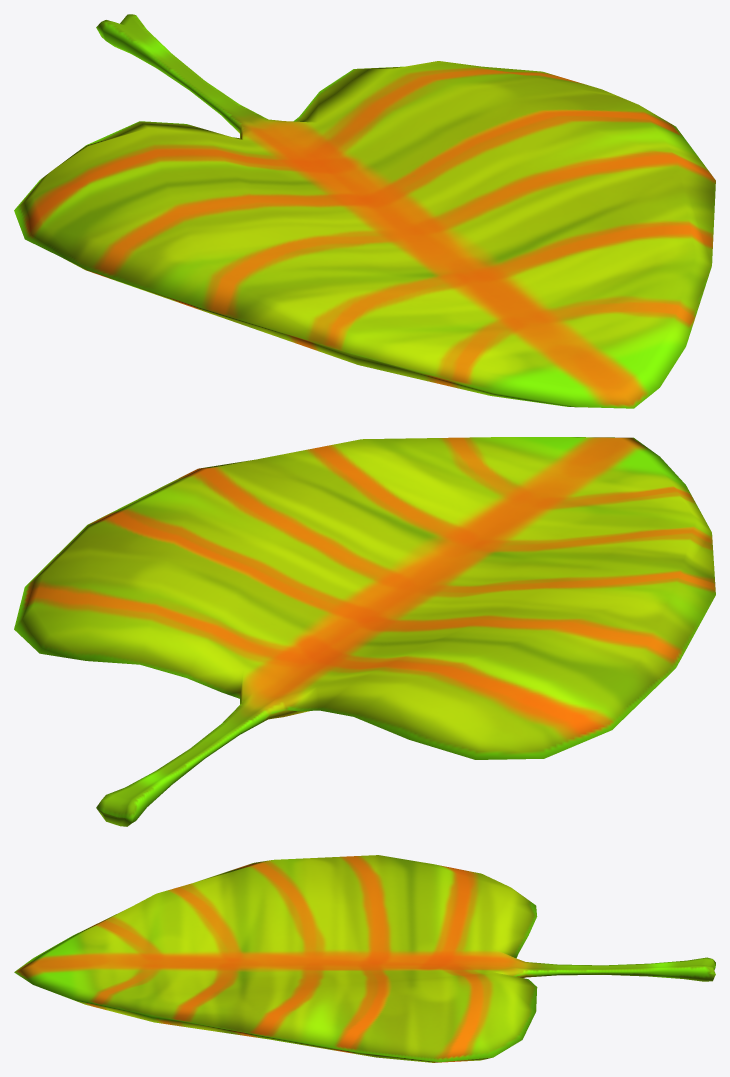
Rendered from BigLeaf1.fbx.
3 views of the same model, one above another, from view 1: azimuth 30°, elevation 25°; view 2: azimuth 150°, elevation 25°; view 3: azimuth 270°, elevation 25° (orthographic). The views are drawn at different scales.
Visible parts, largest first — view 1: BigLeaf1; view 2: BigLeaf1; view 3: BigLeaf1.
Boxes of the visible parts, bbox=[...] form: BigLeaf1: bbox=[14, 14, 715, 408]; BigLeaf1: bbox=[14, 437, 715, 826]; BigLeaf1: bbox=[14, 855, 715, 1062].
Bounding box in the file's own units: 277 × 29.37 × 423.
